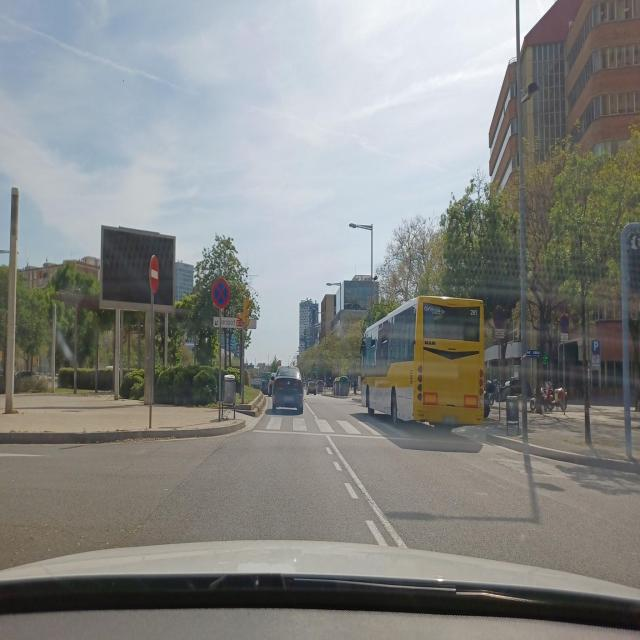forb_stopping: (559, 315, 569, 334)
forb_waiting: (212, 278, 230, 310)
